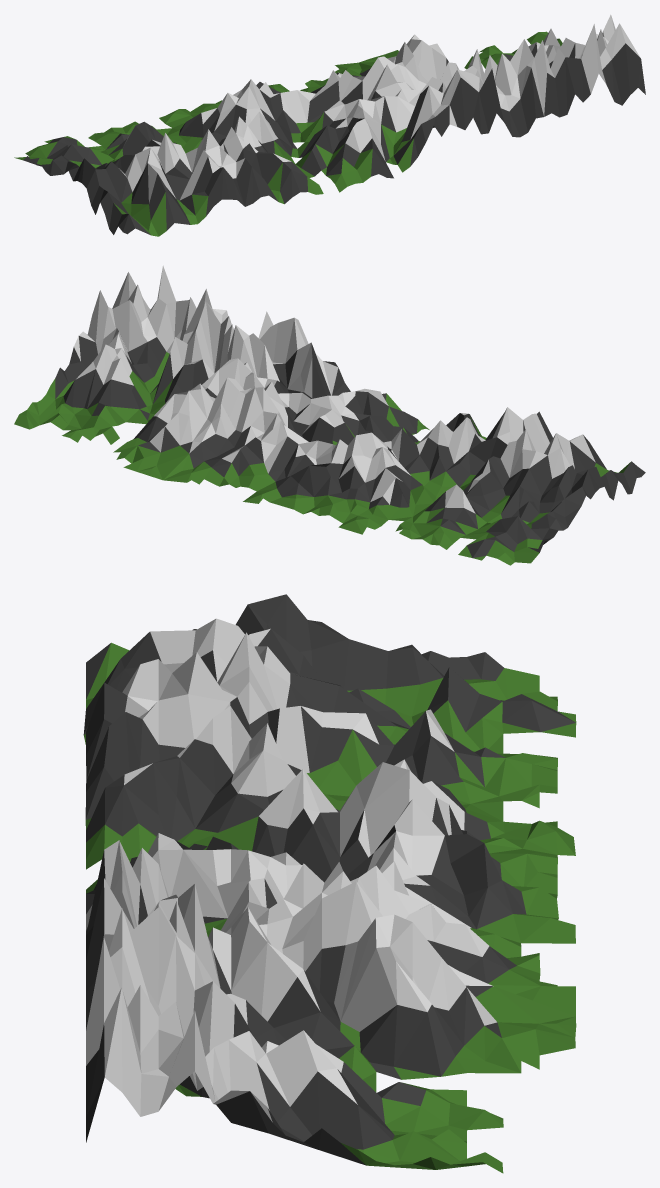
File: Mountain1.fbx
3 renders of one model, top to bottom at view 1: azimuth 30°, elevation 25°; view 2: azimuth 150°, elevation 25°; view 3: azimuth 270°, elevation 25°, orthographic. The views are drawn at different scales.
Parts seen in each view (by area): view 1: Plane.009; view 2: Plane.009; view 3: Plane.009.
Boxes of the visible parts, x1,y1,x2,y2 form: Plane.009: (14, 14, 645, 236); Plane.009: (14, 265, 645, 565); Plane.009: (83, 594, 576, 1173).
Bounding box in the file's own units: 2001 × 382 × 823.
